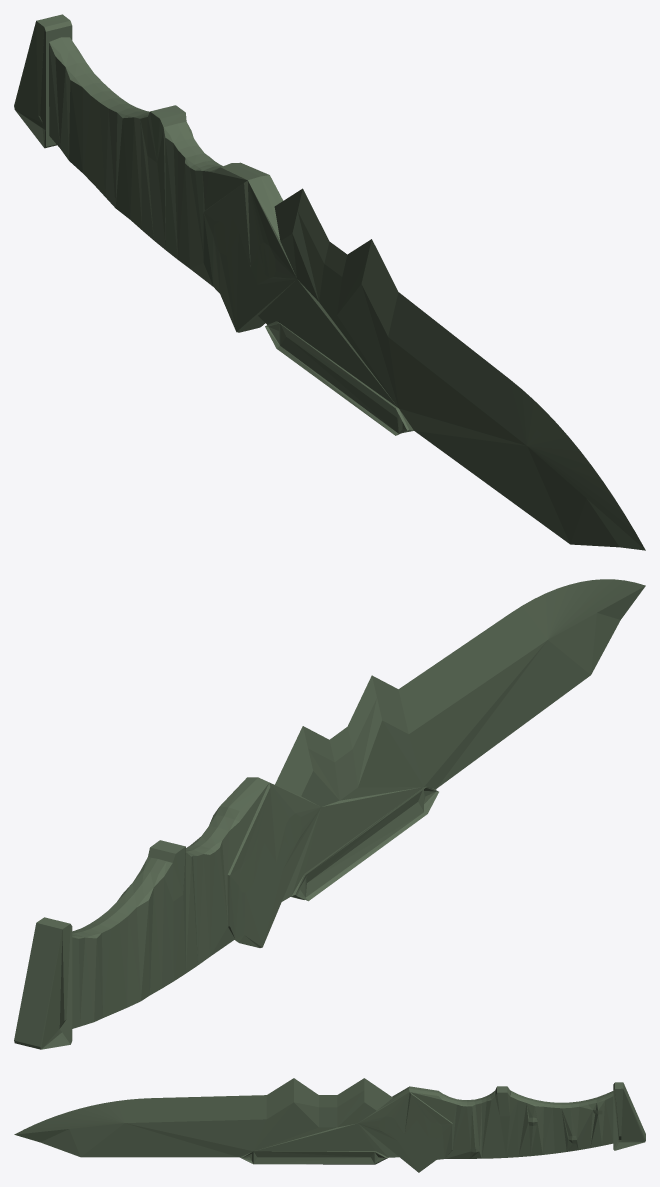
Rendered from model_align.obj.
3 renders of one model, top to bottom at view 1: azimuth 30°, elevation 25°; view 2: azimuth 150°, elevation 25°; view 3: azimuth 270°, elevation 25°, orthographic. The views are drawn at different scales.
Size of the model in its own units: 0.00656 by 0.0338 by 0.2097.
